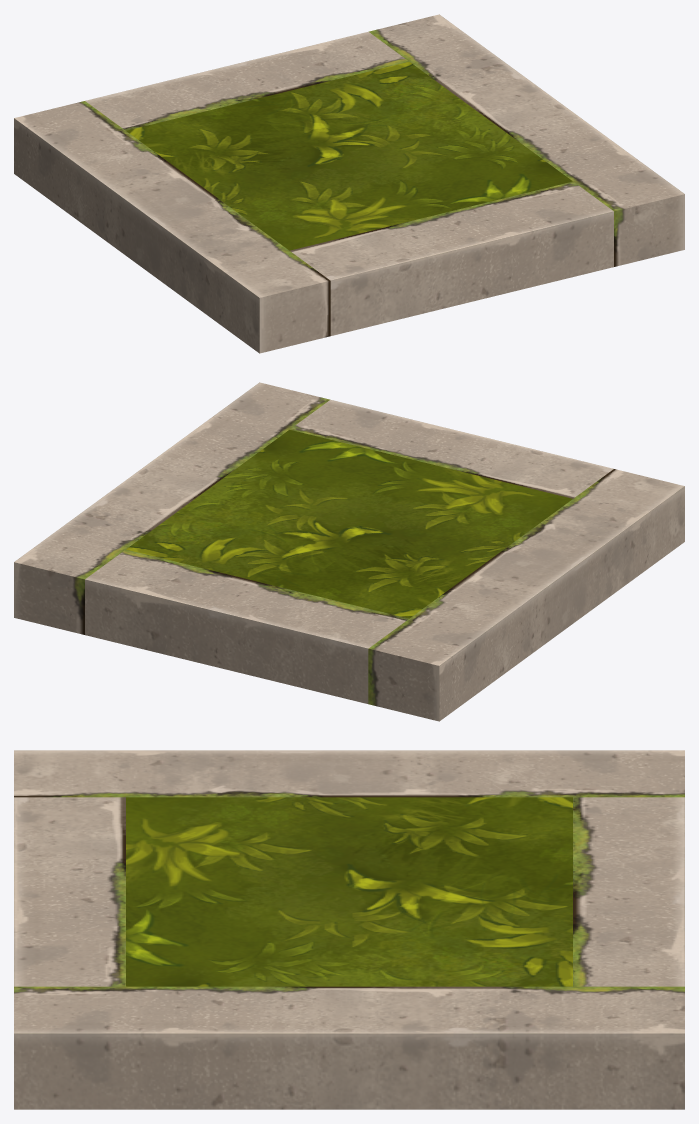
File: TRF0110018.fbx
The picture shows the model from 3 angles, top to bottom: view 1: azimuth 30°, elevation 25°; view 2: azimuth 150°, elevation 25°; view 3: azimuth 270°, elevation 25°; orthographic projection. The views are drawn at different scales.
Parts seen in each view (by area): view 1: smTRF0110018; view 2: smTRF0110018; view 3: smTRF0110018.
Part boxes in pixels (x1,y1,x2,y2): smTRF0110018: (14,14,684,353); smTRF0110018: (14,382,684,721); smTRF0110018: (14,750,684,1109).
Bounding box in the file's own units: 120 × 15 × 120.
Materials: 1 (1 with a texture image).
